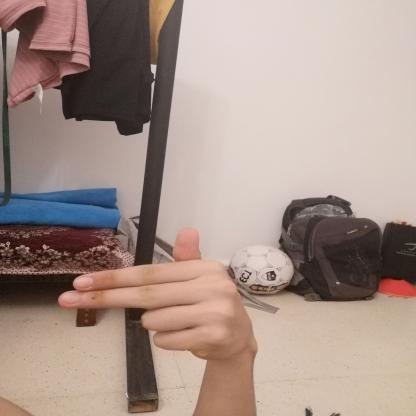GHAYN: (46, 220, 265, 366)
